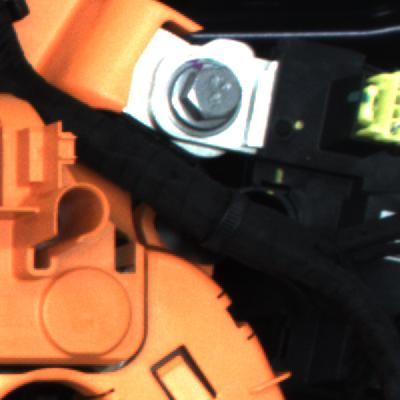nut_b: (161, 51, 253, 150)
